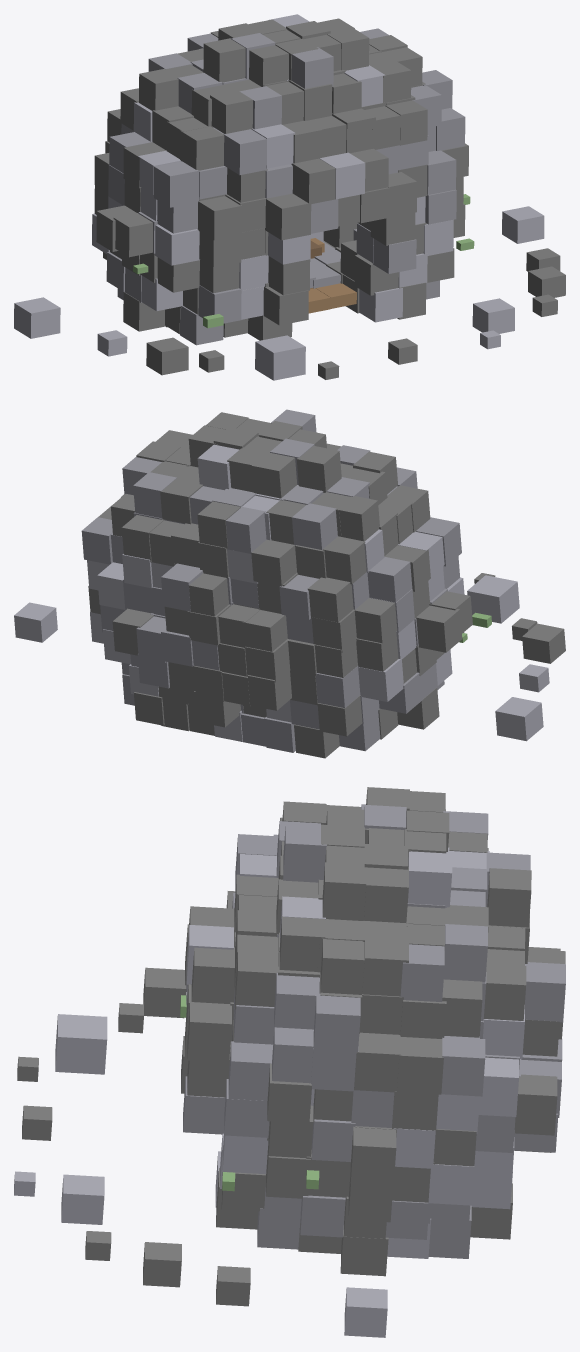
Rendered from cave.glb.
The picture shows the model from 3 angles, top to bottom: view 1: azimuth 30°, elevation 25°; view 2: azimuth 150°, elevation 25°; view 3: azimuth 270°, elevation 25°; orthographic projection. The views are drawn at different scales.
Parts seen in each view (by area): view 1: Cave_StoneDark, Cave_StoneMid, Cave_StoneLight, Cave_Dirt, Cave_Moss; view 2: Cave_StoneDark, Cave_StoneMid, Cave_StoneLight; view 3: Cave_StoneDark, Cave_StoneMid, Cave_StoneLight.
Boxes of the visible parts, left/top/right/bottom form: Cave_StoneDark: left=94, top=18, right=565, bottom=379; Cave_StoneMid: left=106, top=28, right=465, bottom=345; Cave_StoneLight: left=14, top=14, right=544, bottom=380; Cave_Dirt: left=308, top=238, right=356, bottom=313; Cave_Moss: left=133, top=194, right=474, bottom=328; Cave_StoneDark: left=88, top=412, right=565, bottom=758; Cave_StoneMid: left=81, top=409, right=461, bottom=752; Cave_StoneLight: left=14, top=444, right=549, bottom=741; Cave_StoneDark: left=17, top=787, right=565, bottom=1306; Cave_StoneMid: left=183, top=804, right=565, bottom=1258; Cave_StoneLight: left=14, top=847, right=524, bottom=1337.
Bounding box in the file's own units: 19.2 × 9.56 × 13.39.
